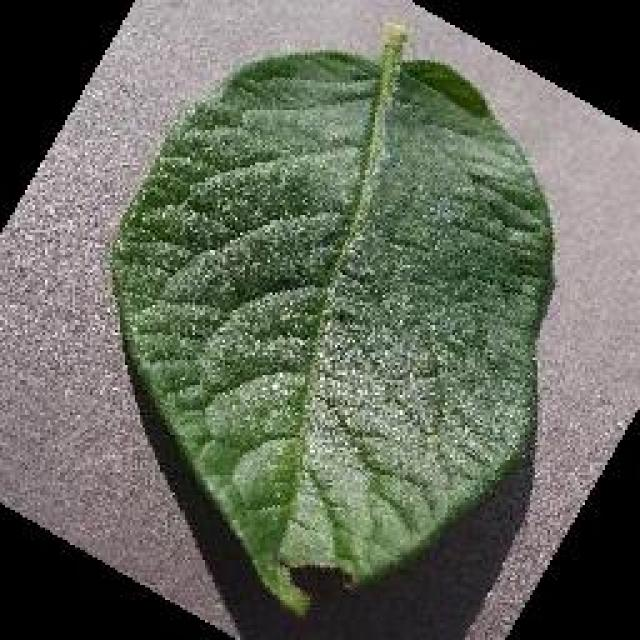Potato___healthy: (108, 19, 558, 630)
